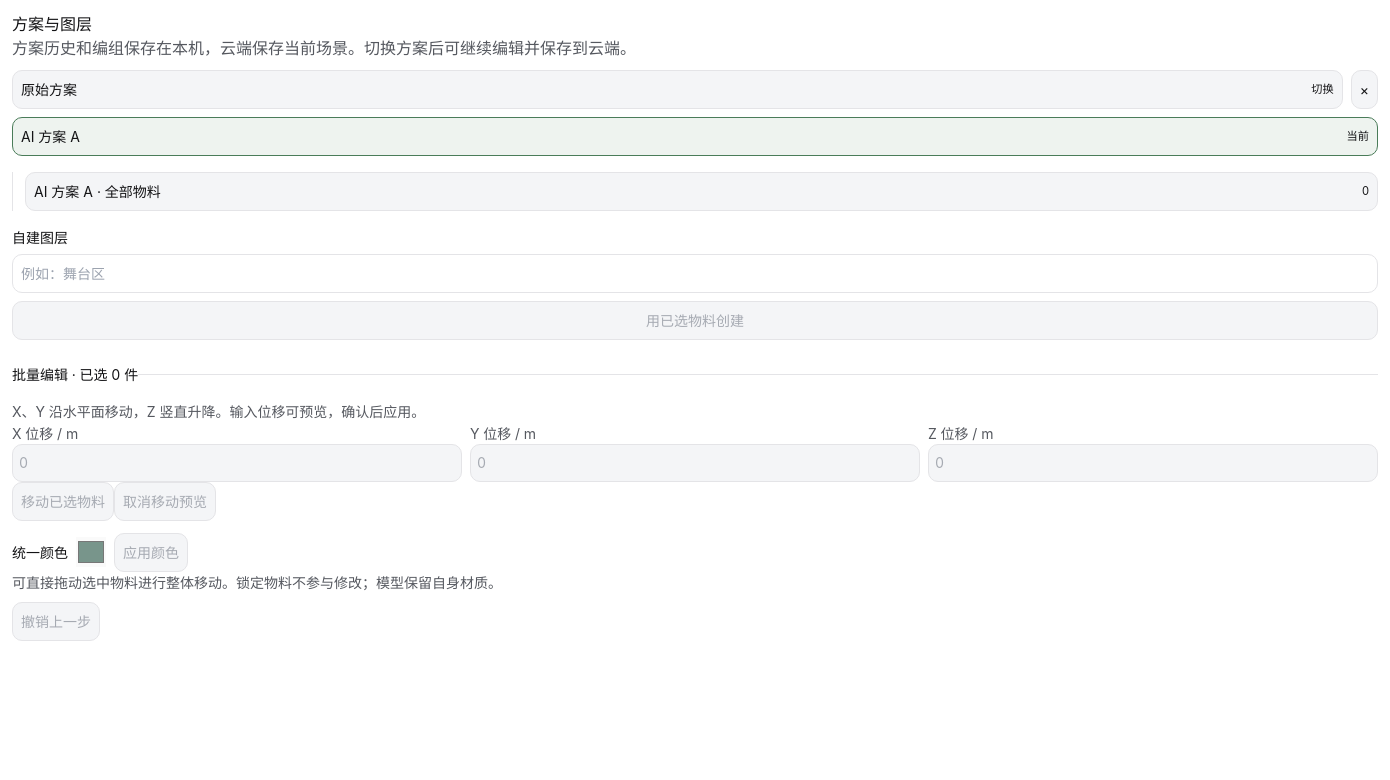
Test: retains the current design on authorization failure
Click the button named "原始方案切换" at [49, 89], box 12,70 -> 1343,109
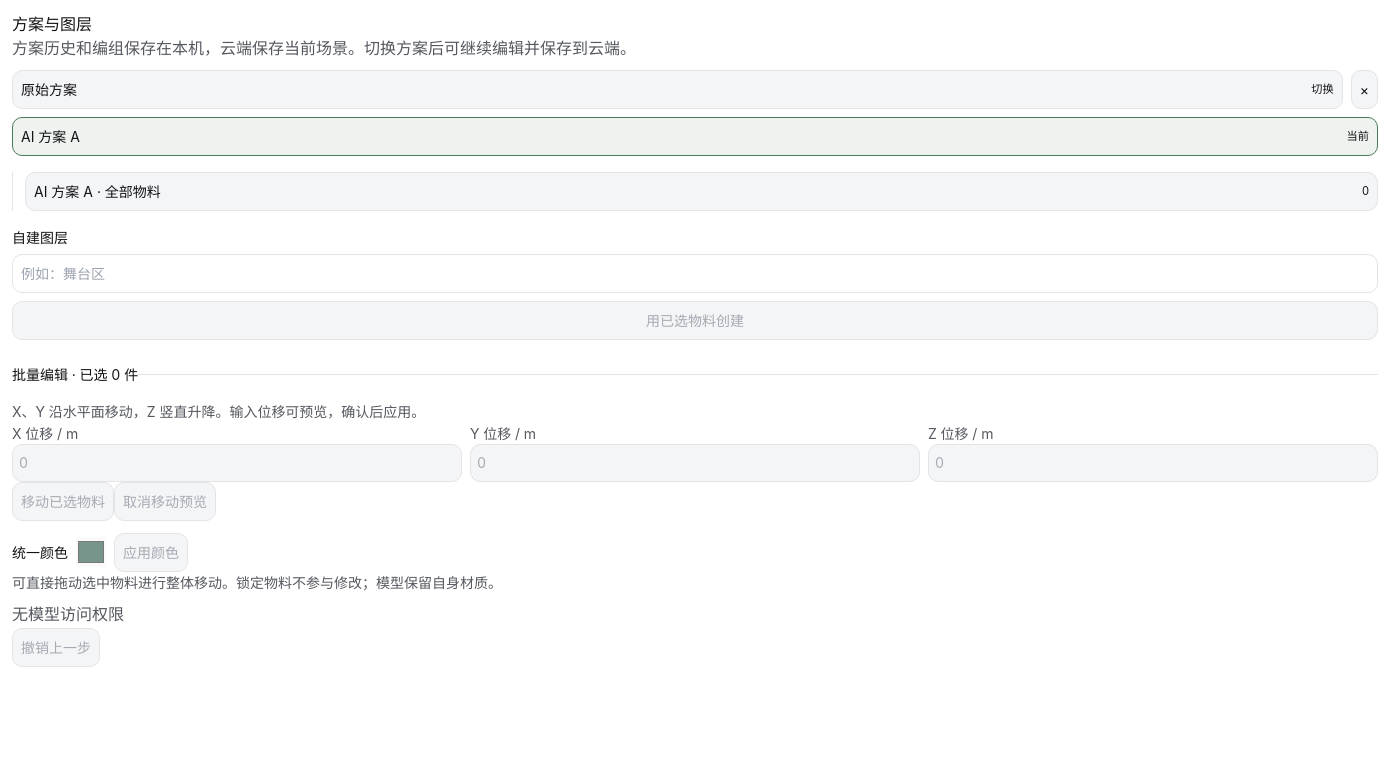
Now the text "无模型访问权限" is shown, box 12,604 -> 124,624
